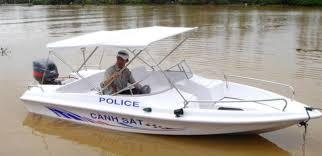Ship: (22, 28, 322, 136)
